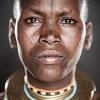face: (22, 7, 85, 70)
